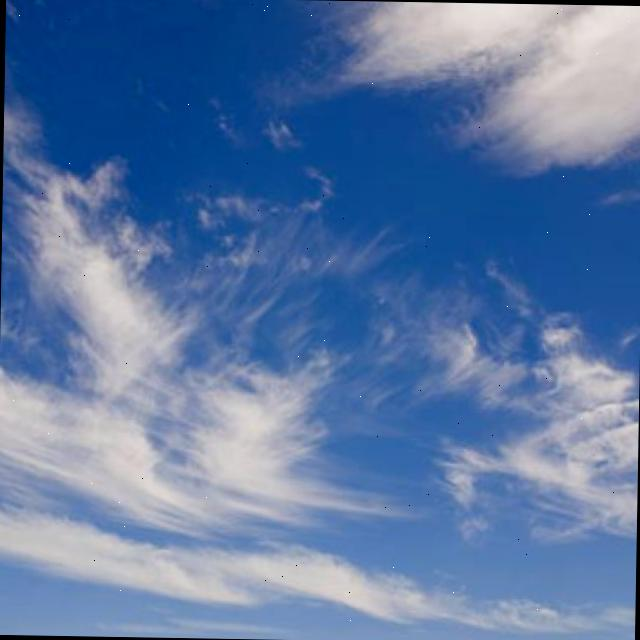Ci: (1, 38, 640, 615)
